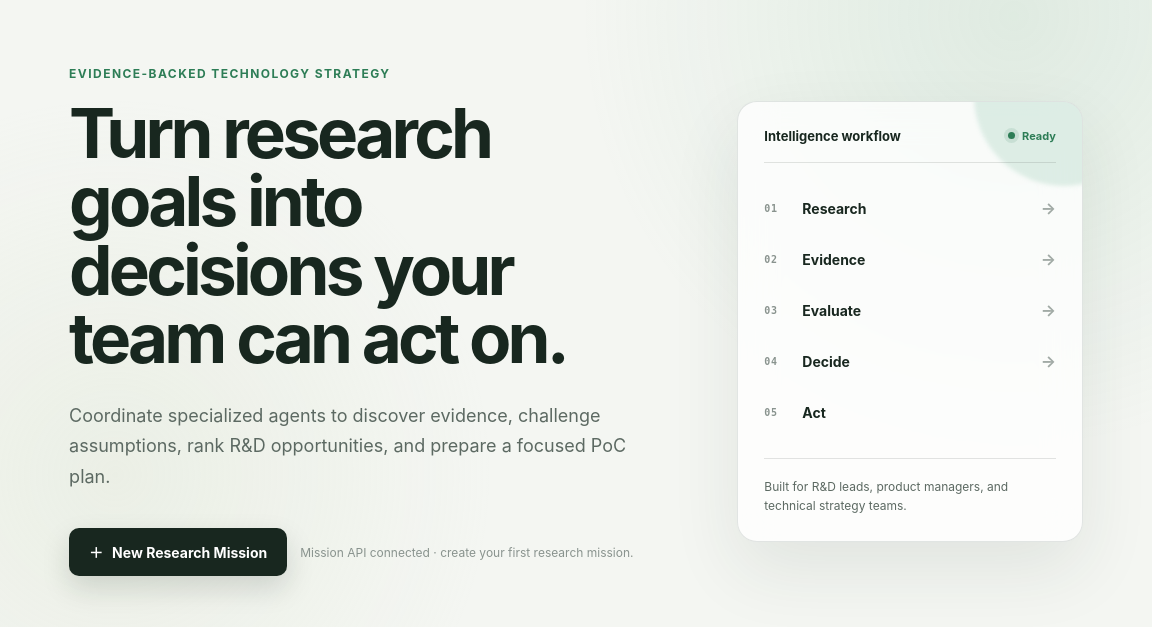
Test: mission workspace › keeps the form open and reports an API creation failure
Click the button "＋ New Research Mission". click: (178, 552)
box: [69,528,287,576]
(page scrolled)
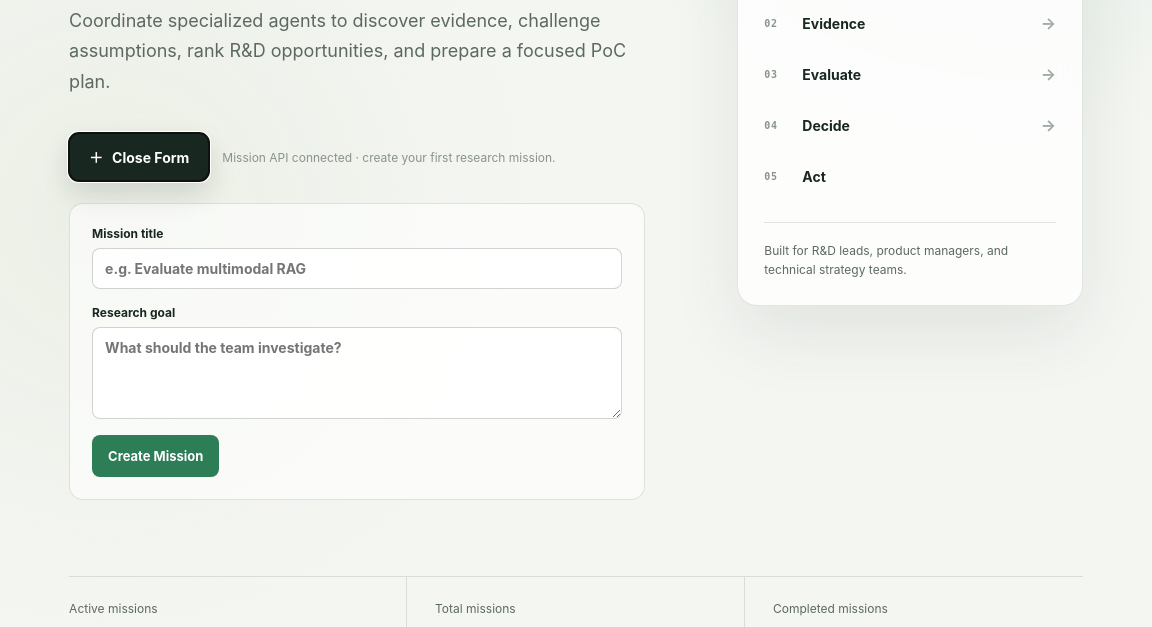
Type "Evaluate multimodal RAG" into the field labelled "Mission title". click: (357, 269)
box: [92,248,622,290]
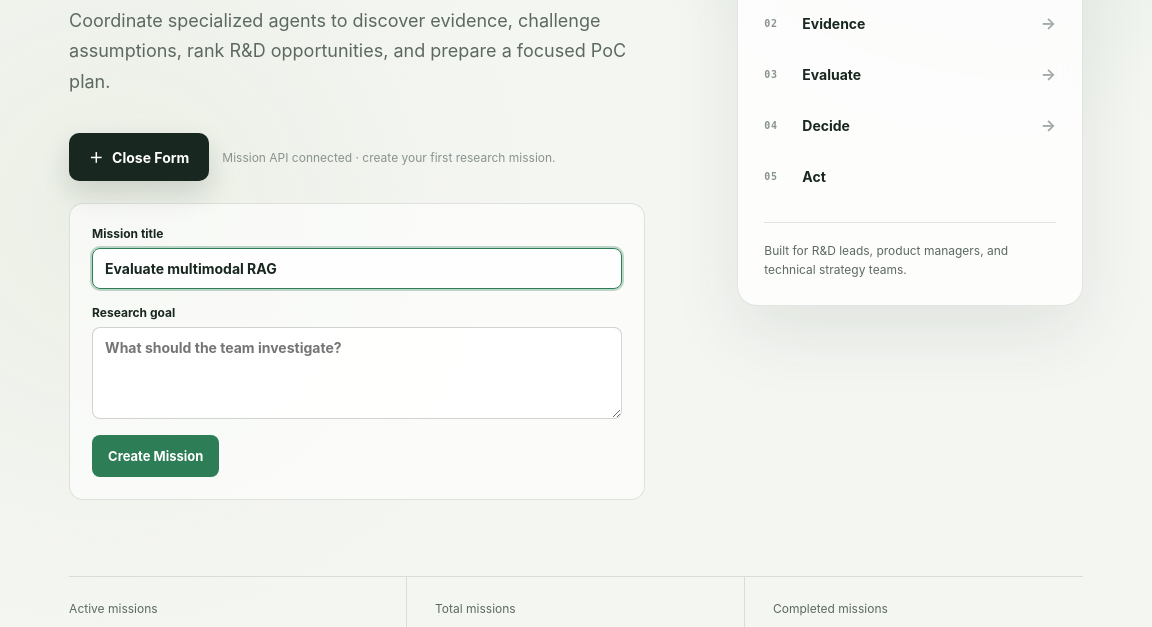
Type "Compare retrieval quality and implementation cost." into the text box labelled "Research goal". click: (357, 374)
box: [92,328,622,420]
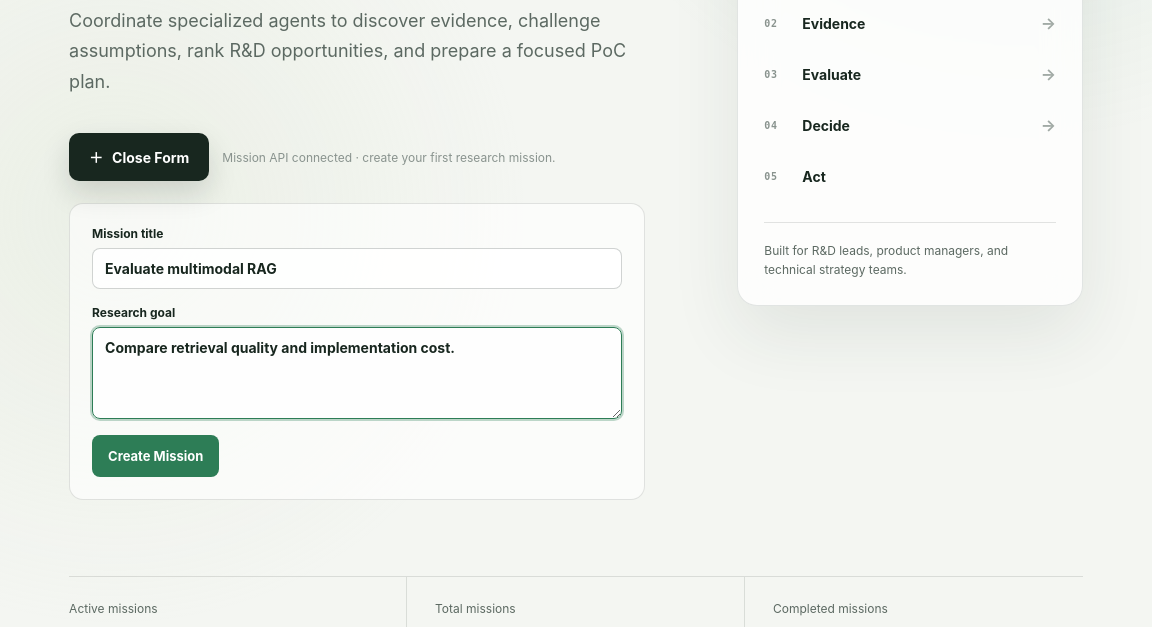
Click the button "Create Mission". click: (156, 456)
box: [92,436,219,478]
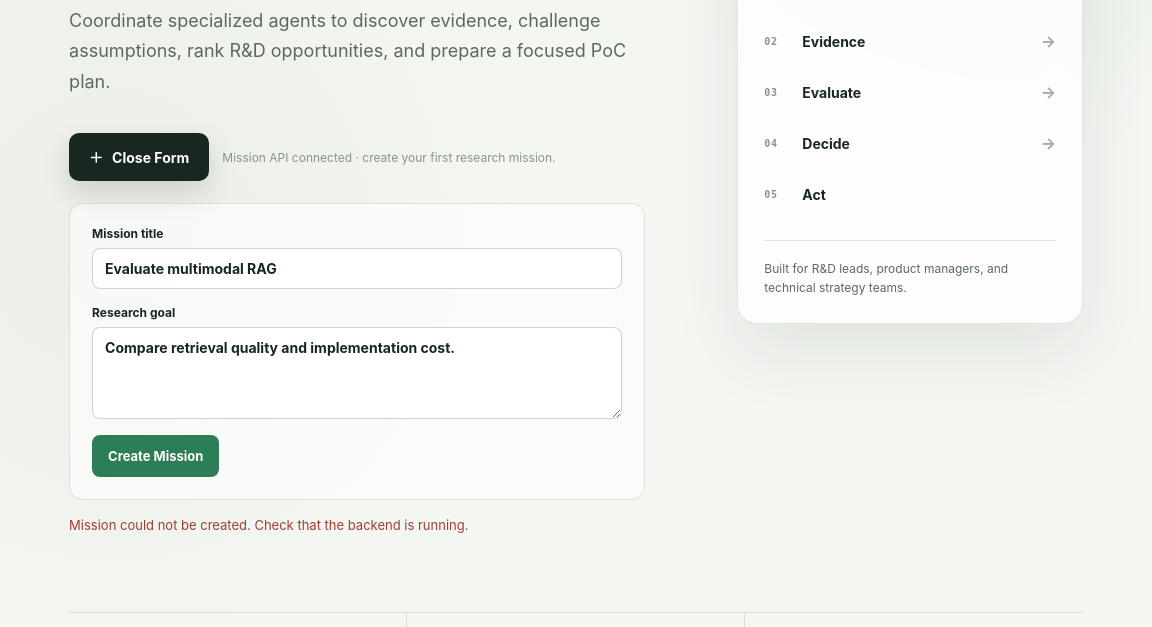
Check: the button "Create Mission" is shown, box [92,436,219,478]
Check: the text "Mission could not be created" is shown, box [69,518,468,534]
